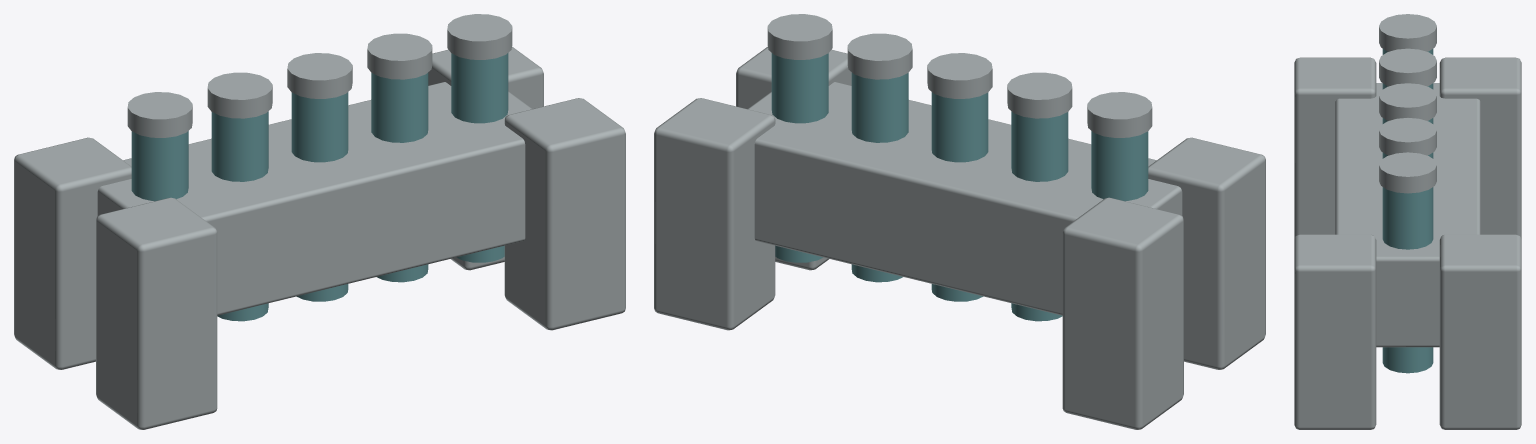
The model's file is water-collection-and-purification-sample-vial-rack-19ada9c6__20206.glb.
3 renders of one model, left to right at view 1: azimuth 30°, elevation 25°; view 2: azimuth 150°, elevation 25°; view 3: azimuth 270°, elevation 25°, orthographic. The views are drawn at different scales.
Parts seen in each view (by area): view 1: sample-vial-rack; view 2: sample-vial-rack; view 3: sample-vial-rack.
Part boxes in pixels (x1,y1,x2,y2): sample-vial-rack: (14, 14, 625, 429); sample-vial-rack: (654, 14, 1265, 429); sample-vial-rack: (1294, 14, 1521, 429).
Size of the model in its own units: 0.275 by 0.14 by 0.125.
